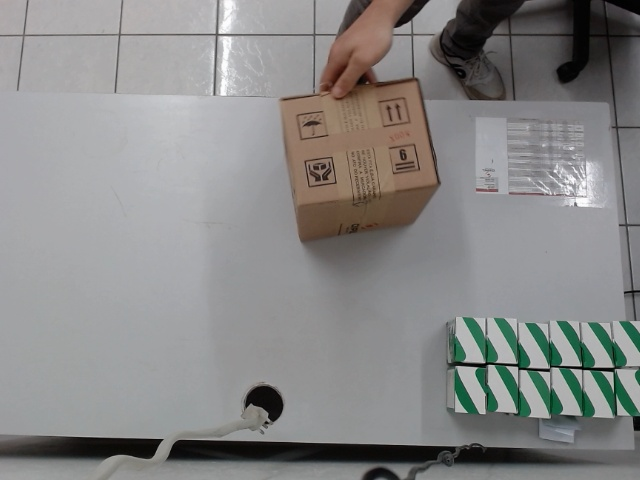caixa_principal: (276, 75, 444, 239)
